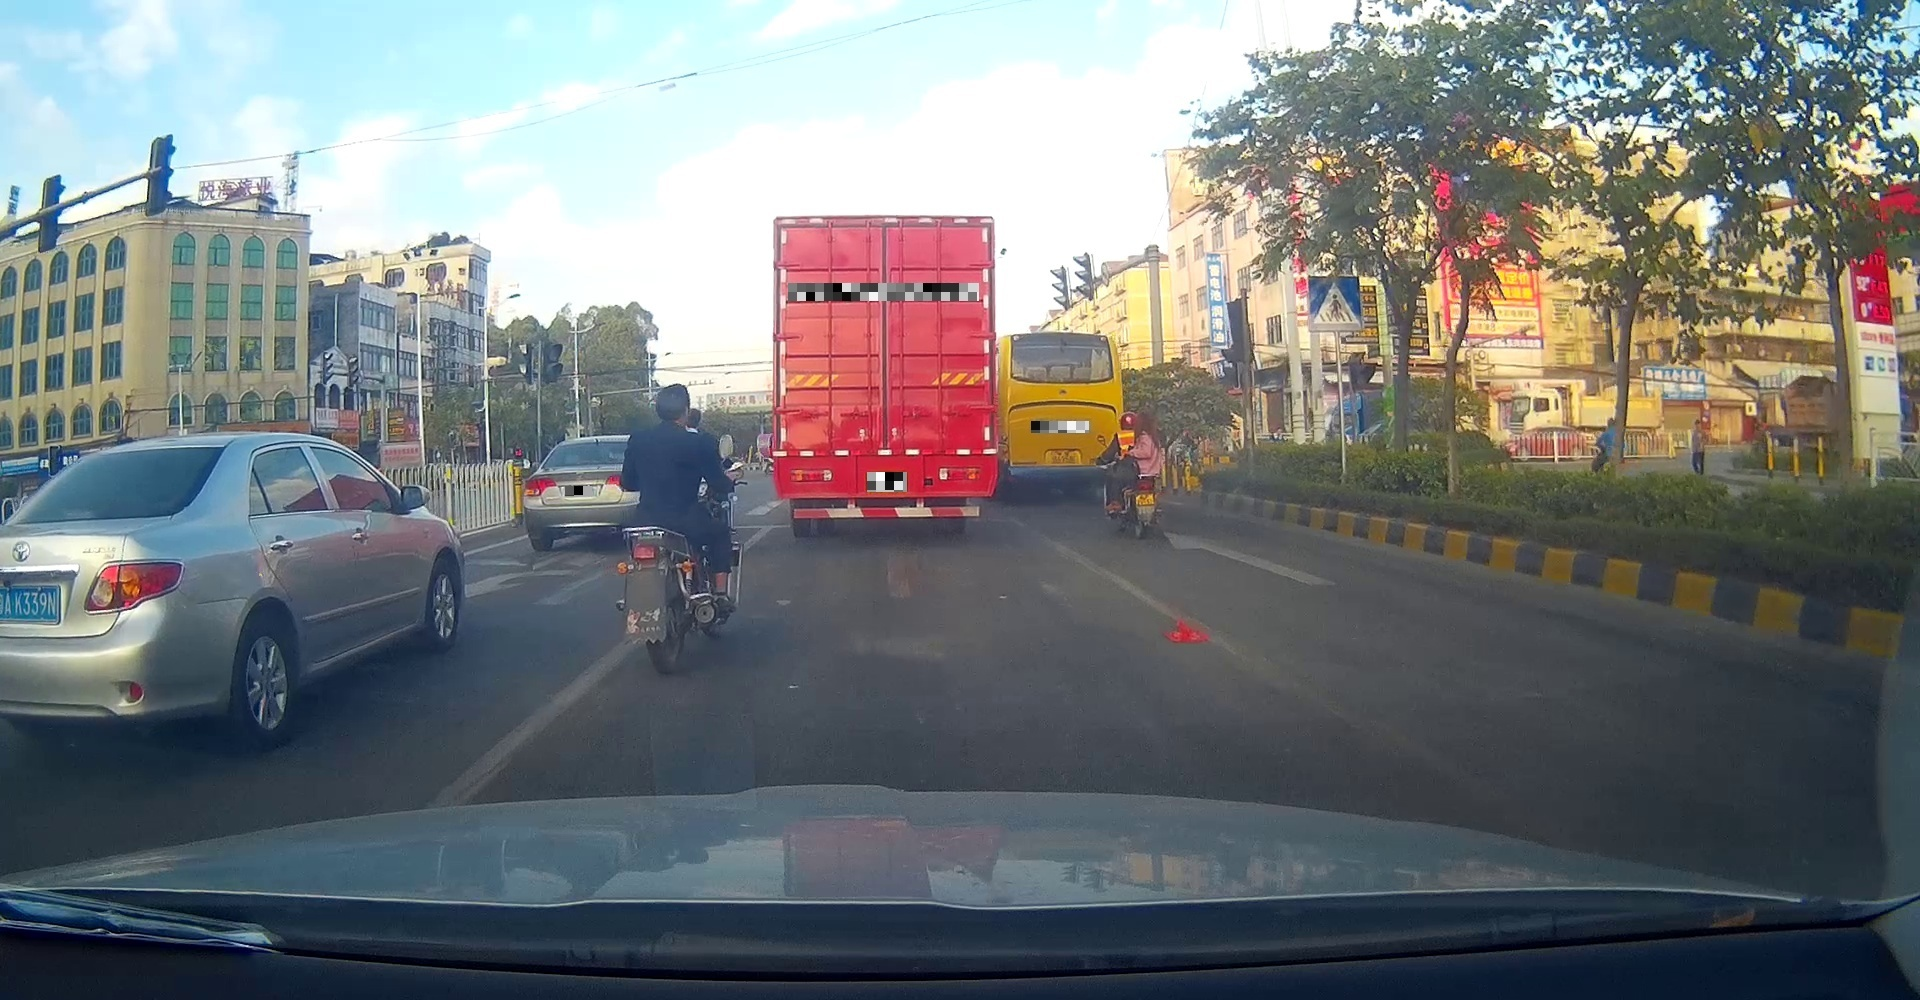L_light: (524, 477, 557, 496), (790, 470, 830, 482)
R_light: (938, 466, 979, 481), (604, 475, 639, 492)
T_light: (865, 227, 902, 236), (588, 442, 606, 445)
day-left: (523, 437, 640, 551)
day-no: (771, 214, 997, 541)
plate_1: (565, 486, 592, 496)
plate_2: (789, 283, 979, 301)
plate_3: (867, 472, 907, 492)
plate_4: (1031, 421, 1090, 433)
